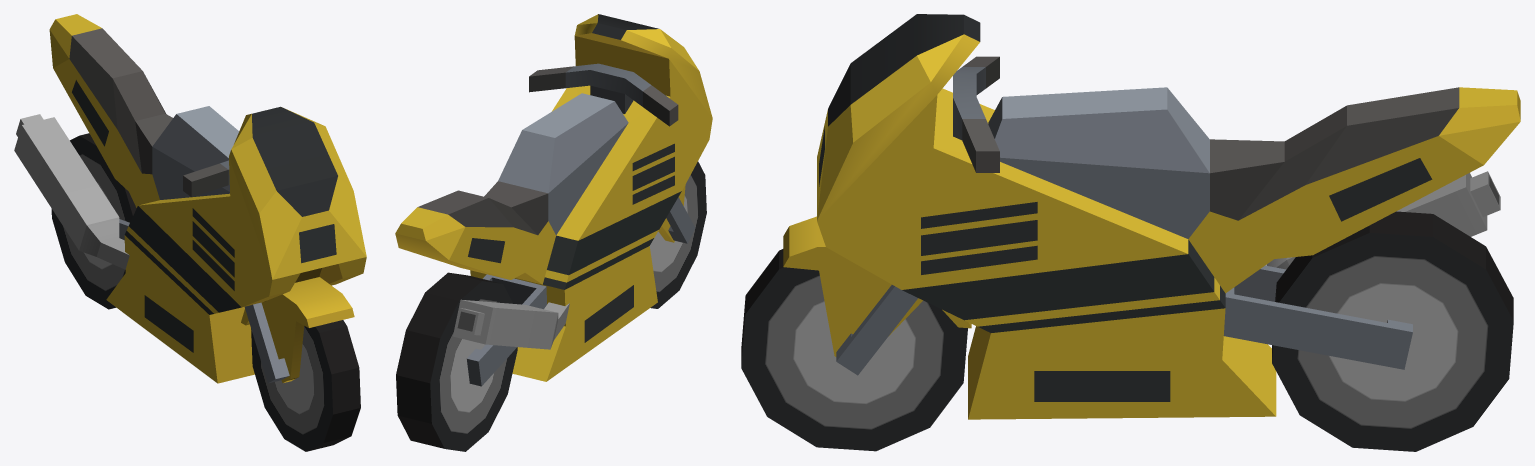
The model's file is yellowBike.glb.
The picture shows the model from 3 angles, left to right: view 1: azimuth 30°, elevation 25°; view 2: azimuth 150°, elevation 25°; view 3: azimuth 270°, elevation 25°; orthographic projection. The views are drawn at different scales.
Visible parts, largest first — view 1: SR_Veh_MotorBike_Yellow, SR_Veh_MotorBike_Wheel_F, SR_Veh_MotorBike_Wheel_R; view 2: SR_Veh_MotorBike_Yellow, SR_Veh_MotorBike_Wheel_R, SR_Veh_MotorBike_Wheel_F; view 3: SR_Veh_MotorBike_Yellow, SR_Veh_MotorBike_Wheel_R, SR_Veh_MotorBike_Wheel_F.
Boxes of the visible parts, left/top/right/bottom form: SR_Veh_MotorBike_Yellow: left=14, top=14, right=366, bottom=383; SR_Veh_MotorBike_Wheel_F: left=251, top=320, right=360, bottom=451; SR_Veh_MotorBike_Wheel_R: left=51, top=133, right=136, bottom=309; SR_Veh_MotorBike_Yellow: left=395, top=14, right=712, bottom=386; SR_Veh_MotorBike_Wheel_R: left=396, top=272, right=517, bottom=451; SR_Veh_MotorBike_Wheel_F: left=649, top=161, right=706, bottom=308; SR_Veh_MotorBike_Yellow: left=783, top=14, right=1520, bottom=419; SR_Veh_MotorBike_Wheel_R: left=1272, top=211, right=1513, bottom=451; SR_Veh_MotorBike_Wheel_F: left=741, top=249, right=967, bottom=451.
Bounding box in the file's own units: 0.0107 × 0.022 × 0.0372.
1 material, 1 textured.
